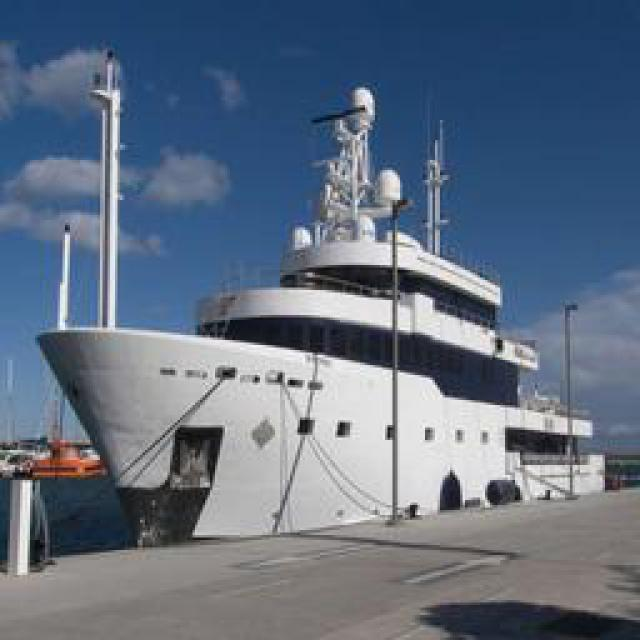Ship: (146, 86, 564, 521)
